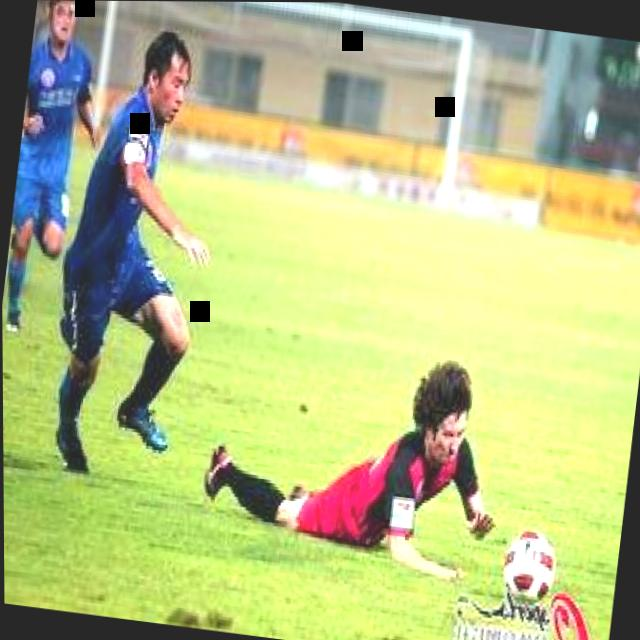Fall-Detected: (188, 318, 519, 582)
